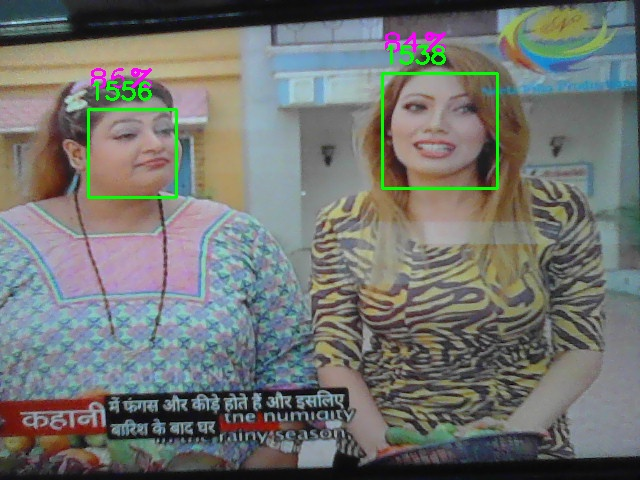fake: (382, 73, 498, 189), (88, 109, 177, 198)
